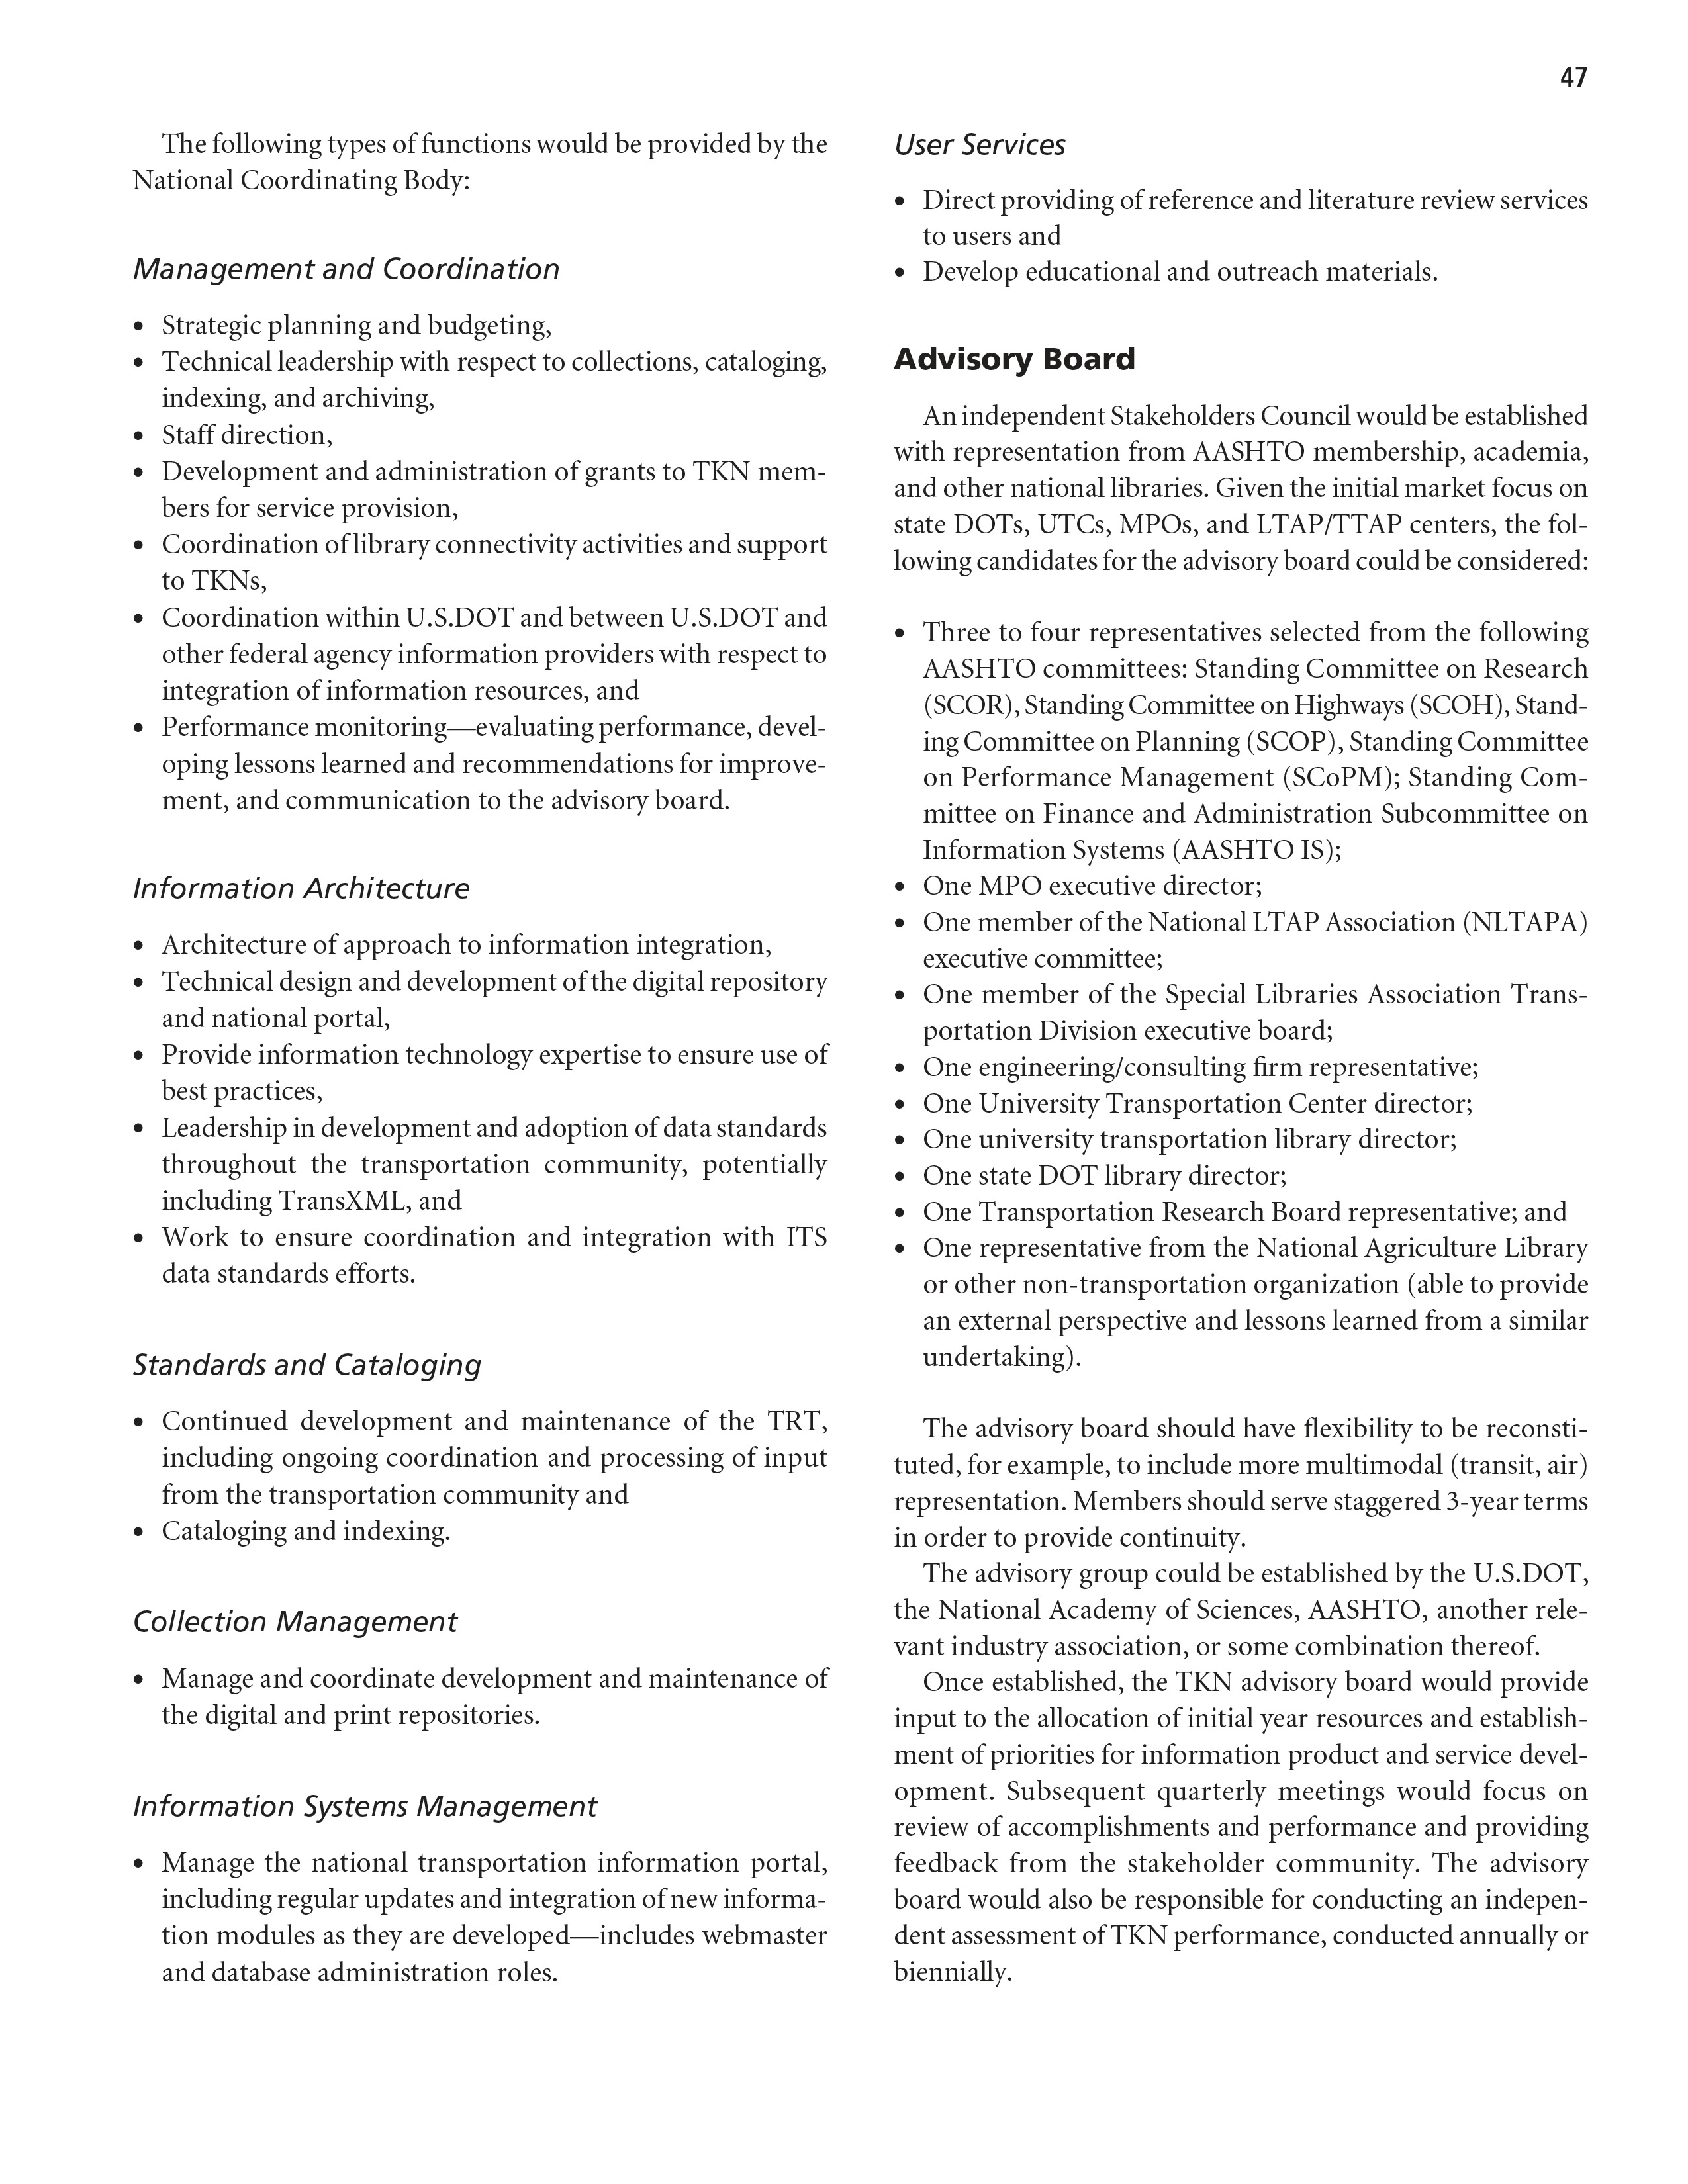list: (872, 604, 1610, 1392), (112, 310, 842, 826), (122, 899, 842, 1305), (119, 936, 839, 1301), (119, 1835, 856, 2023), (119, 1404, 842, 1572), (883, 175, 1615, 303), (115, 1661, 833, 1755)
section: (112, 860, 512, 929), (112, 234, 612, 287), (126, 1785, 605, 1831), (122, 1342, 512, 1388), (115, 1592, 479, 1636), (879, 333, 1153, 379), (895, 122, 1082, 175)
text: (883, 1556, 1599, 2012), (887, 390, 1612, 596), (879, 1411, 1583, 1549), (115, 110, 856, 191)
